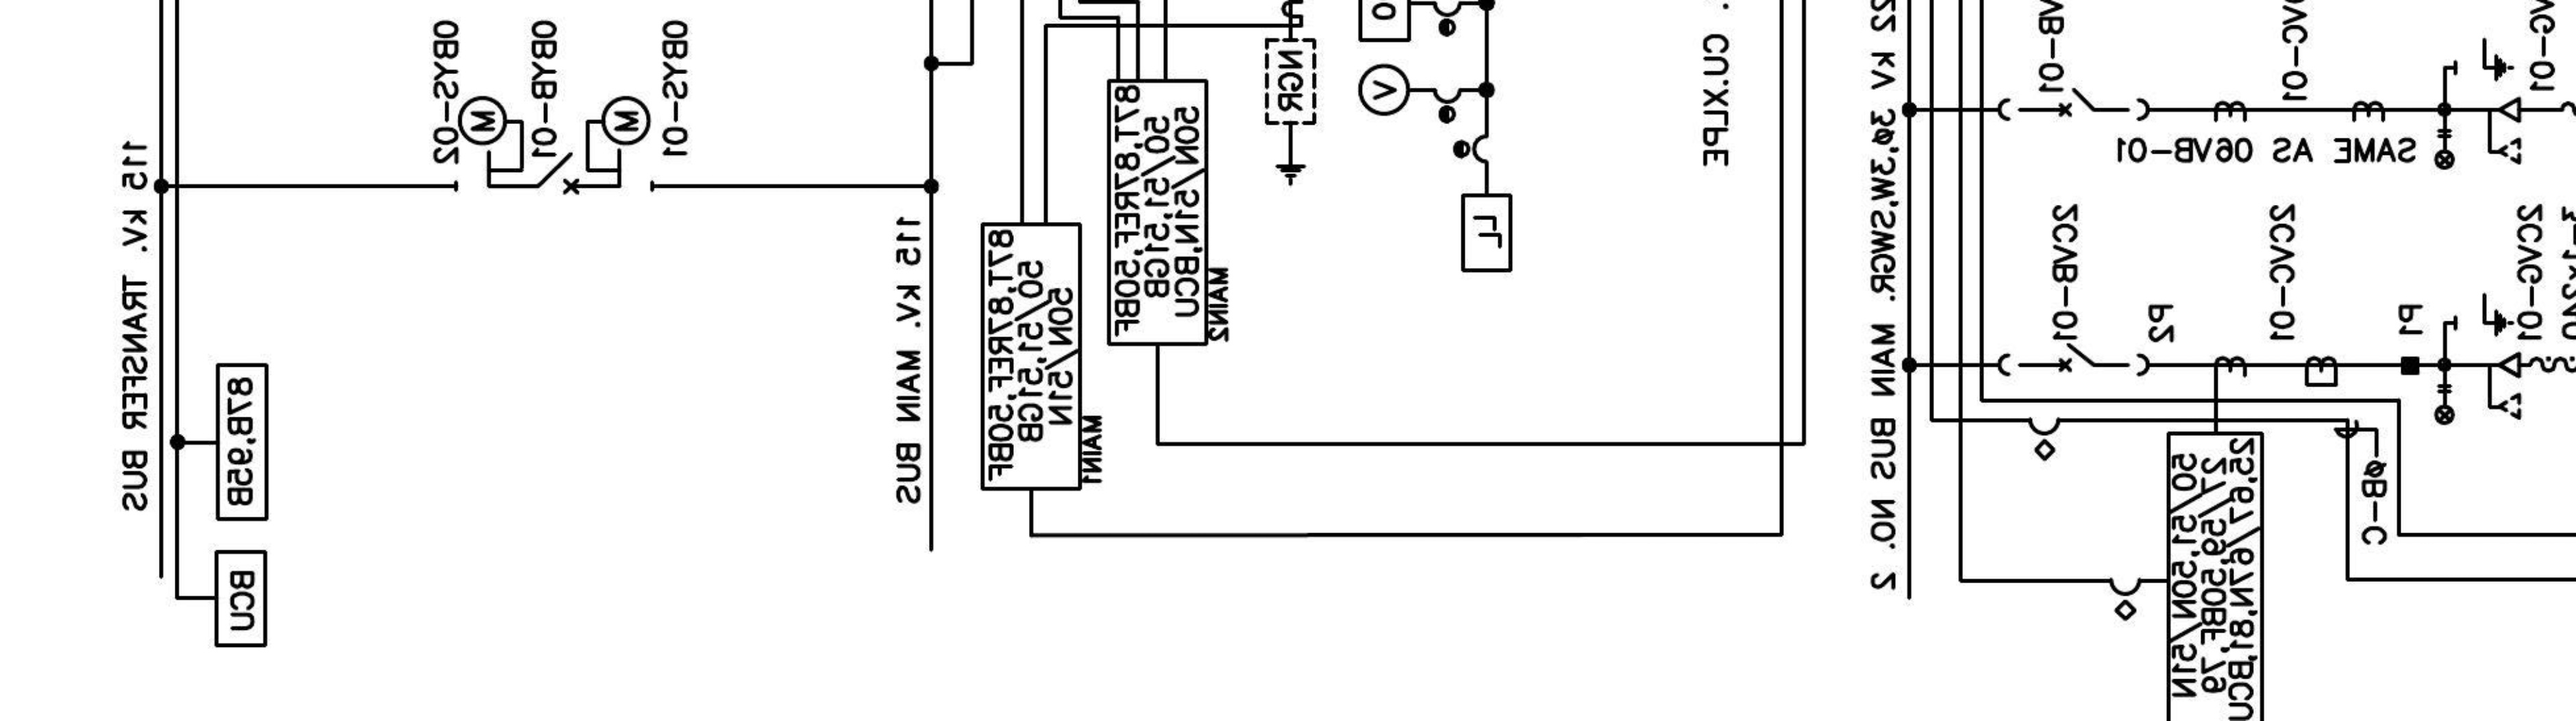115_1way_ds_w_motor: (454, 95, 525, 193), (585, 95, 655, 193)
115_breaker: (536, 152, 580, 195)
22_breaker: (1996, 87, 2151, 122), (1996, 343, 2151, 378)
22_gs: (2453, 36, 2515, 82), (2453, 291, 2515, 337)
22_ll: (2433, 128, 2456, 171), (2433, 384, 2455, 426)
BCU: (214, 549, 268, 649)
LL: (1461, 193, 1513, 273)
NGR_future: (1264, 38, 1317, 186)
terminator_w_future: (2487, 95, 2522, 165), (2487, 351, 2522, 421)
v_m: (1357, 62, 1412, 118)
